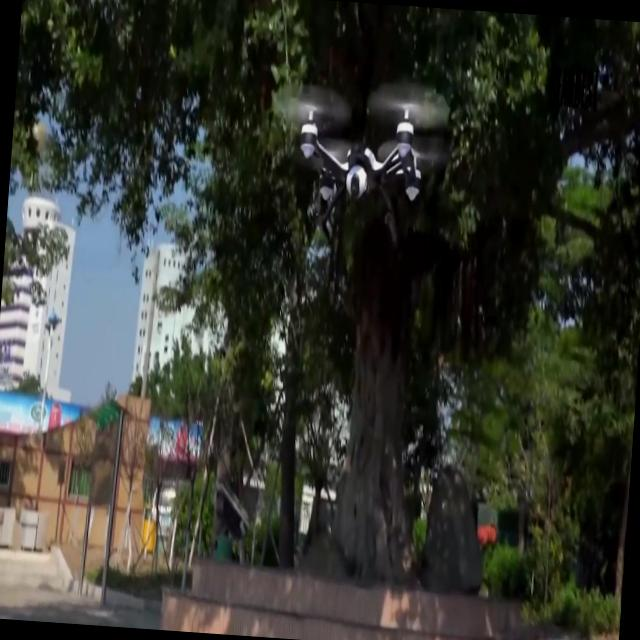drone: (262, 69, 447, 245)
